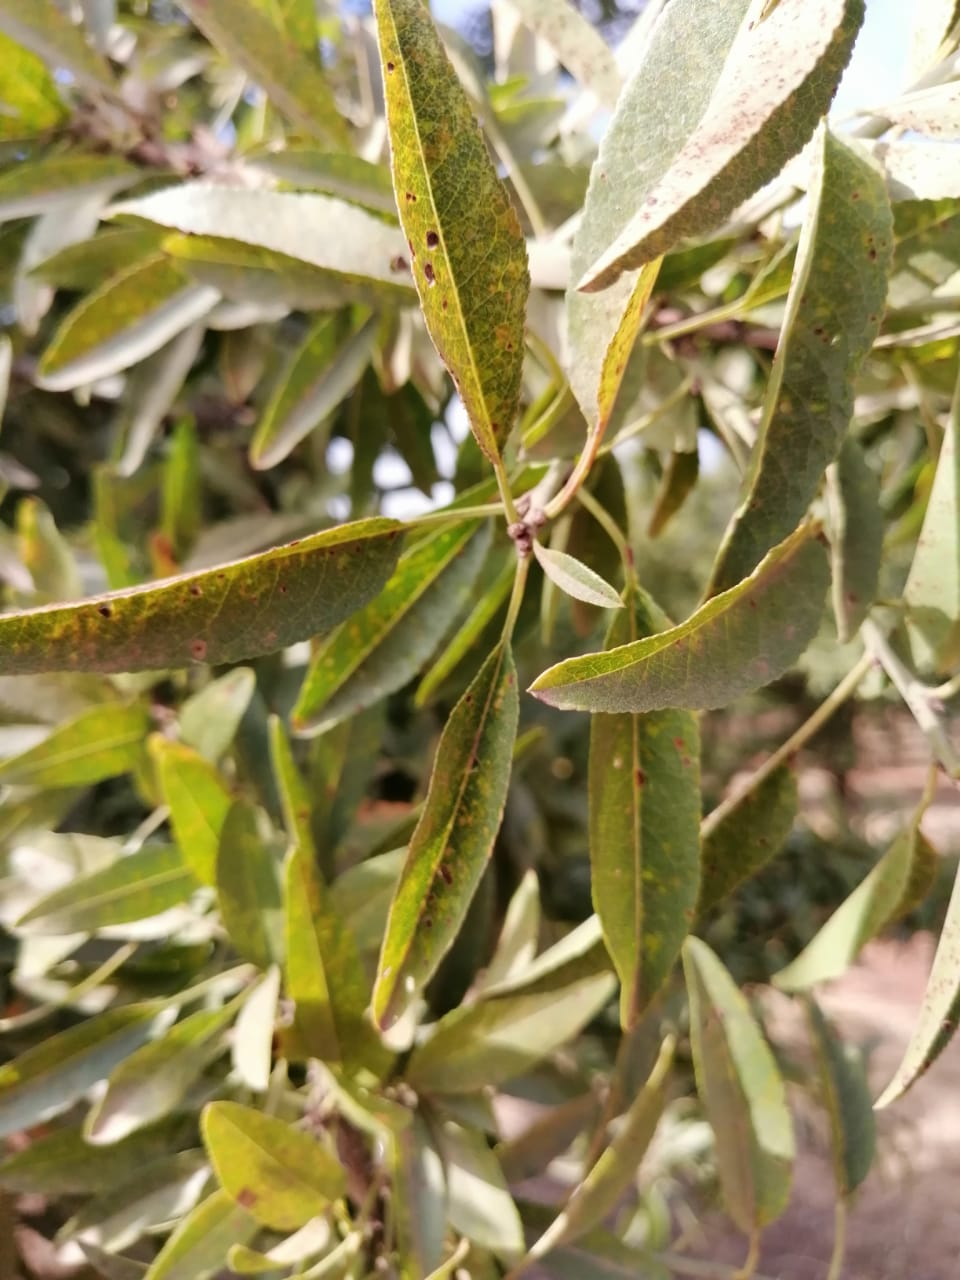rouille: (702, 127, 898, 606), (583, 4, 869, 292), (371, 2, 533, 472), (2, 513, 407, 667), (369, 630, 519, 1030), (586, 584, 706, 1030)
